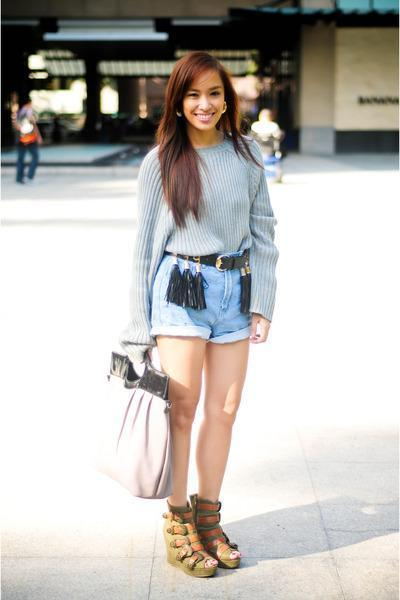bag: (94, 348, 183, 497)
jacket: (119, 137, 278, 342)
shoe: (165, 494, 242, 577)
shorts: (148, 254, 265, 340)
